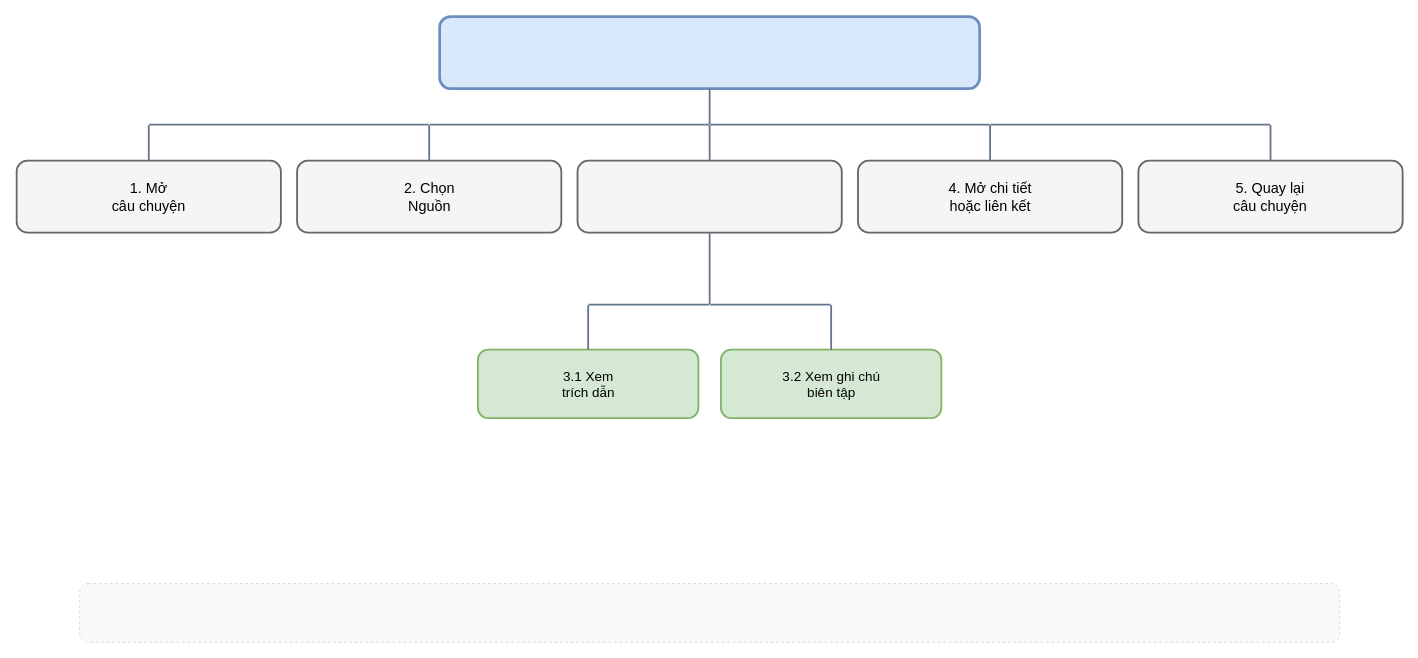
Image size: 1418x658. Some labels were removed from this diagram. The shapes that lost their labels are listed below. From the top down, each one's centre as x and y in pixels, then its label:
At point (709, 52): "0. Kiểm tra nguồn của nội dung lịch sử".
At point (709, 196): "3. Xem thông tin biên tập".
At point (709, 612): "Plan 0: 1 → 2 → 3; chọn 3.1 hoặc 3.2, thực hiện 4 nếu cần → 5.".
